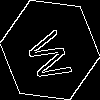W: (25, 25, 81, 87)
